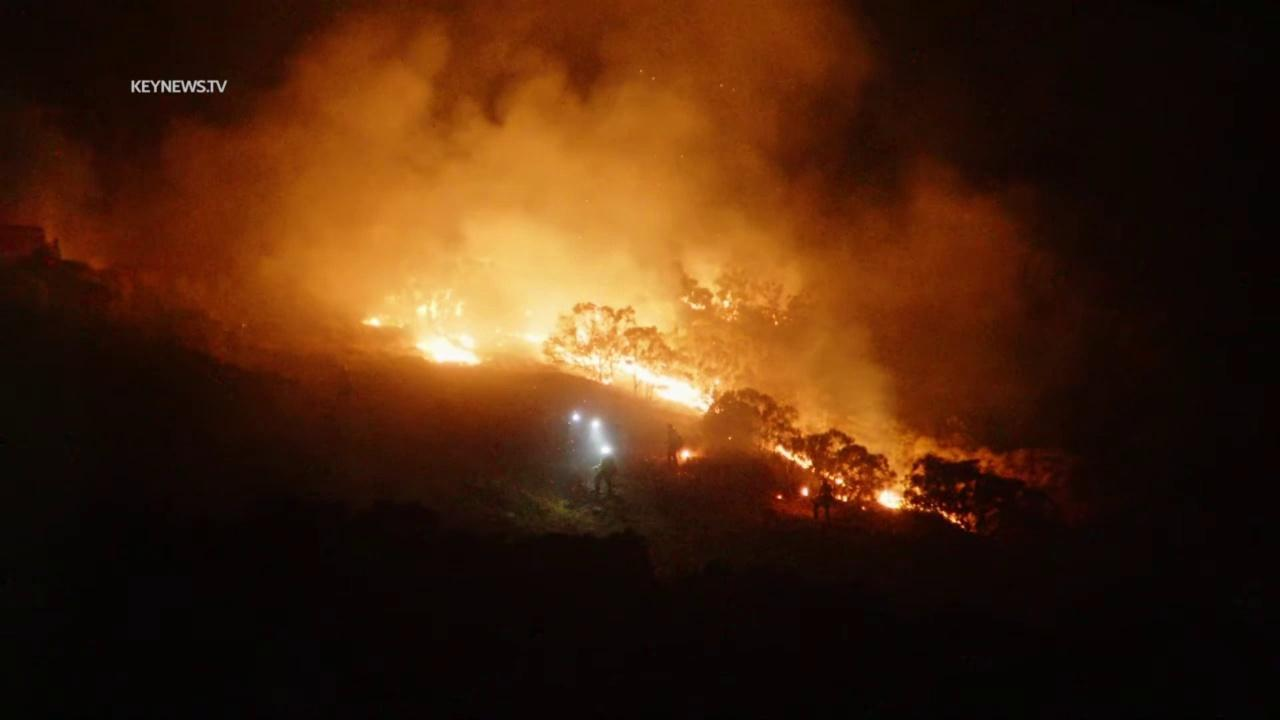fire: (496, 306, 726, 416), (409, 287, 483, 366), (875, 482, 969, 531), (772, 442, 848, 488), (359, 314, 386, 329), (676, 446, 692, 461), (722, 290, 734, 308), (797, 484, 810, 498), (833, 492, 849, 503), (775, 492, 783, 501), (860, 504, 867, 512)
smoke: (0, 0, 1141, 534)
